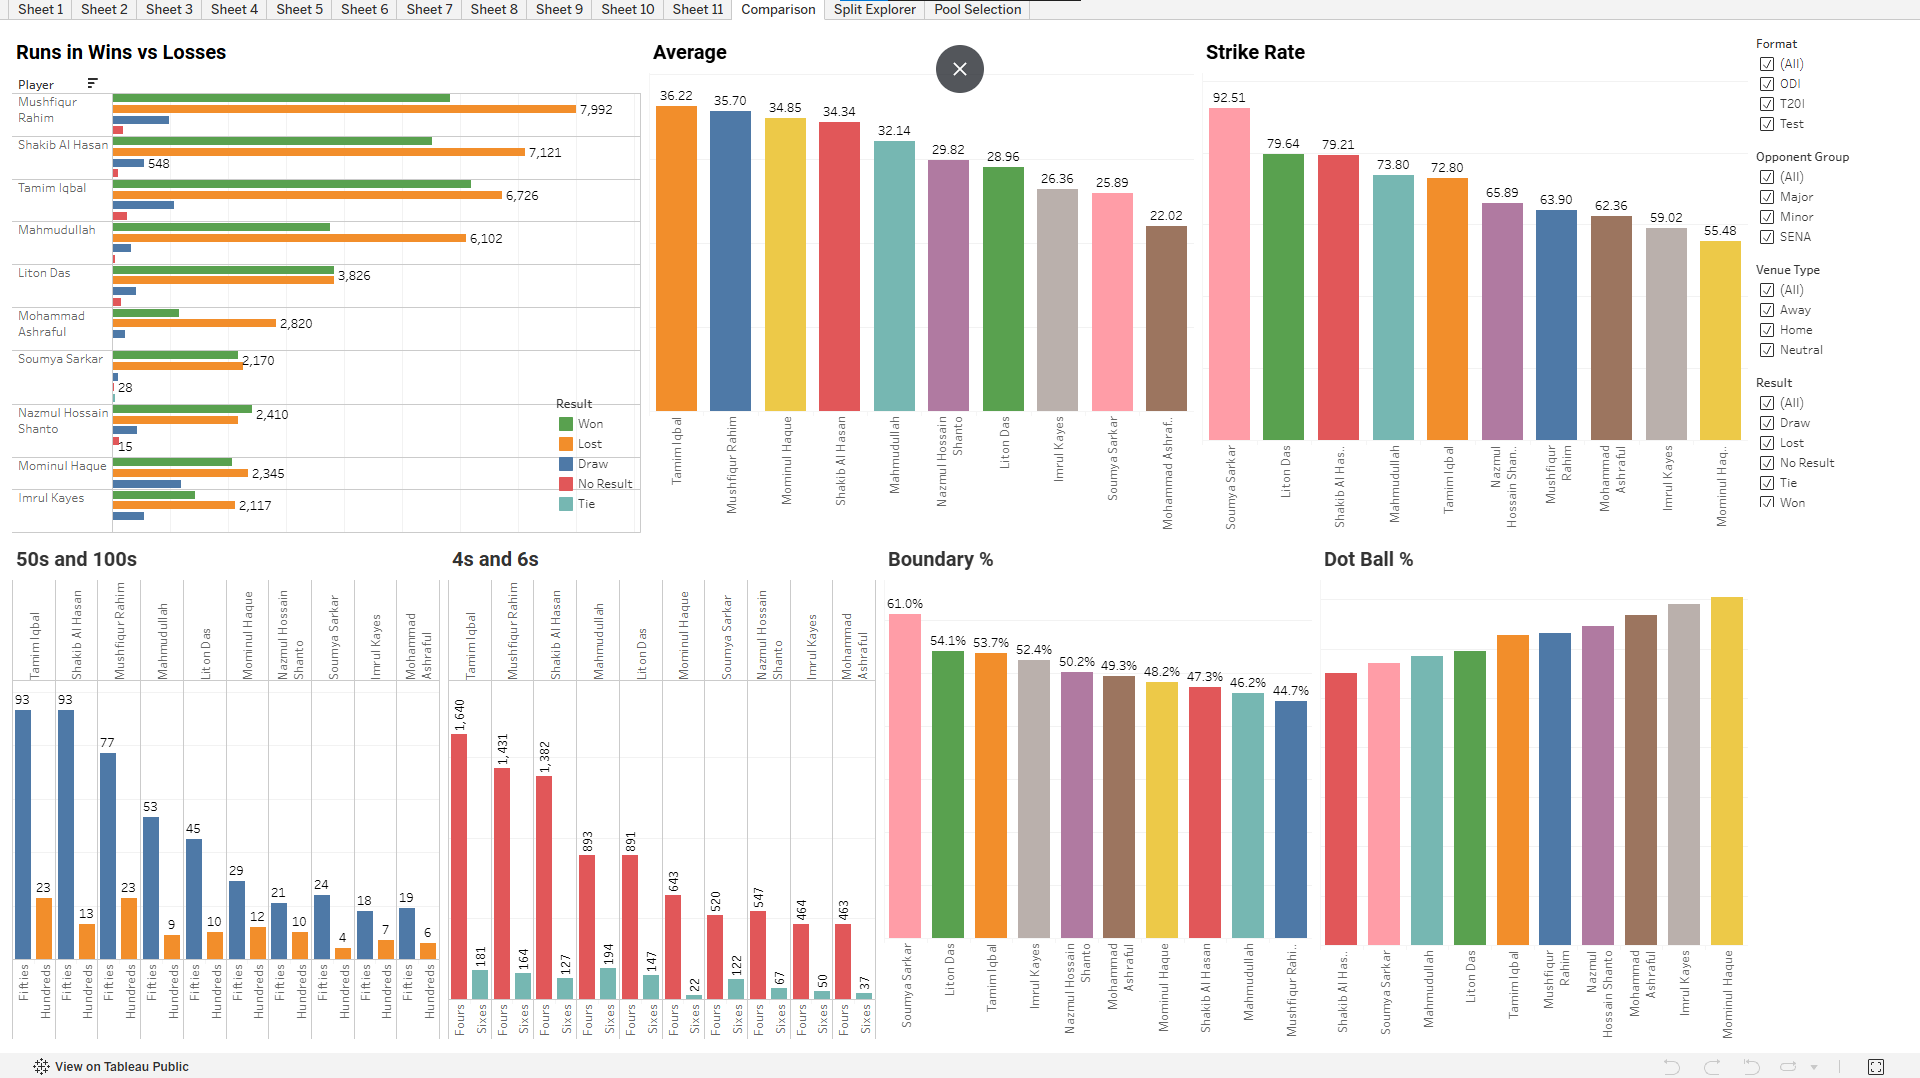

Layout of this report page (visuals, bound fields, positions):
{"tool":"tableau","page":{"name":"Dashboard 2","canvas":[1000,1000],"units":"permille","ordinal":1},"visuals":[{"type":"worksheet","title":"Sheet 2","mark":"Automatic","rows":["Player","Result"],"cols":["Runs"],"box":[4.7,8.8,372.7,491.2]},{"type":"worksheet","title":"Sheet 3","mark":"Automatic","rows":["Calculation_0651462155141120"],"cols":["Player"],"box":[377.4,8.8,308.9,491.2]},{"type":"worksheet","title":"Sheet 4","mark":"Automatic","rows":["Calculation_0651462155374593"],"cols":["Player"],"box":[686.3,8.8,308.9,491.2]},{"type":"legend","title":"Sheet 2","param":"[federated.0e1zze8000ful51azzkye0eknk3s].[none:Result:nk]","box":[289.6,361.7,81.9,130.5]},{"type":"worksheet","title":"Sheet 5","mark":"Automatic","cols":["Player"],"box":[4.7,500,247.7,491.2]},{"type":"worksheet","title":"Sheet 6","mark":"Automatic","cols":["Player"],"box":[252.3,500,247.7,491.2]},{"type":"worksheet","title":"Sheet 7","mark":"Automatic","rows":["Calculation_0651462155444226"],"cols":["Player"],"box":[500,500,247.7,491.2]},{"type":"worksheet","title":"Sheet 8","mark":"Automatic","rows":["Calculation_0651462155599875"],"cols":["Player"],"box":[747.7,500,247.7,491.2]}]}

Visuals, with their boxes on the dashboard's canvas, which has no fixed pixel size, in thousandths of its width and height (x1, y1, x2, y2). These are canvas units, not pixel positions in the 1920x1078 screenshot, which may show the page scaled, cropped or inside an application window:
"Sheet 2" worksheet: 5,9,377,500
"Sheet 3" worksheet: 377,9,686,500
"Sheet 4" worksheet: 686,9,995,500
"Sheet 2" legend: 290,362,372,492
"Sheet 5" worksheet: 5,500,252,991
"Sheet 6" worksheet: 252,500,500,991
"Sheet 7" worksheet: 500,500,748,991
"Sheet 8" worksheet: 748,500,995,991
